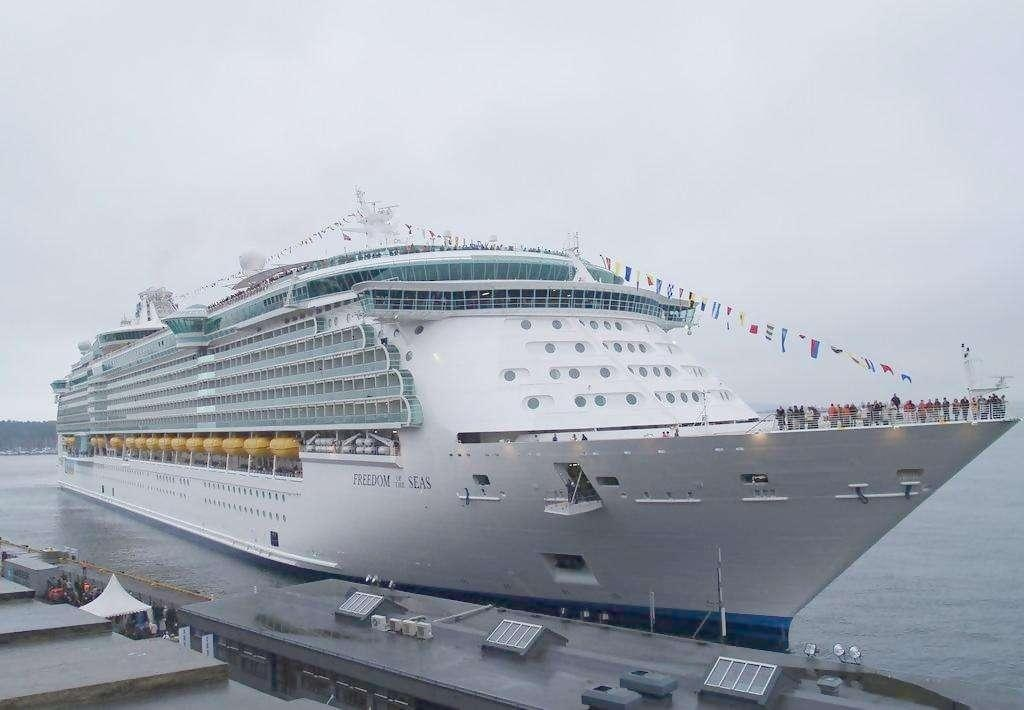youlun: (53, 207, 1018, 635)
